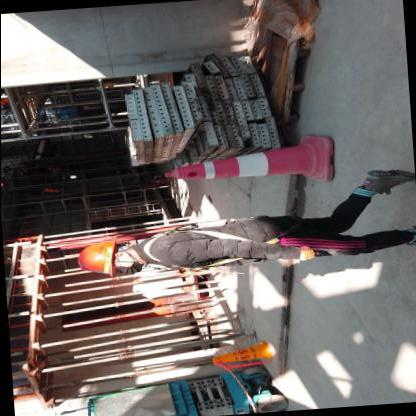Helmet: (80, 231, 124, 285)
safety-shoe: (354, 157, 413, 198)
